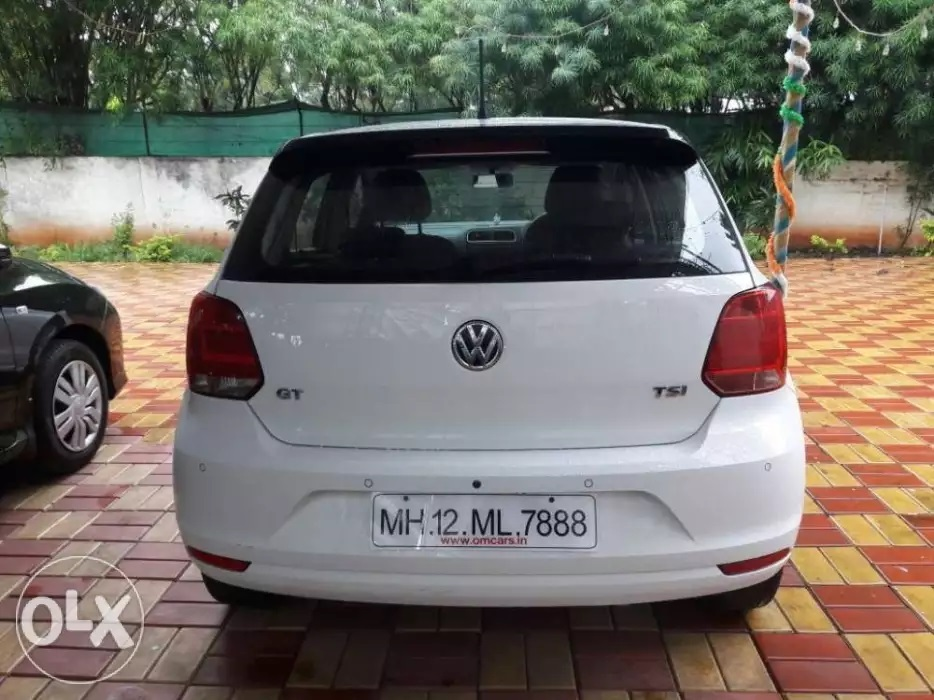licenseplate: (370, 488, 603, 554)
